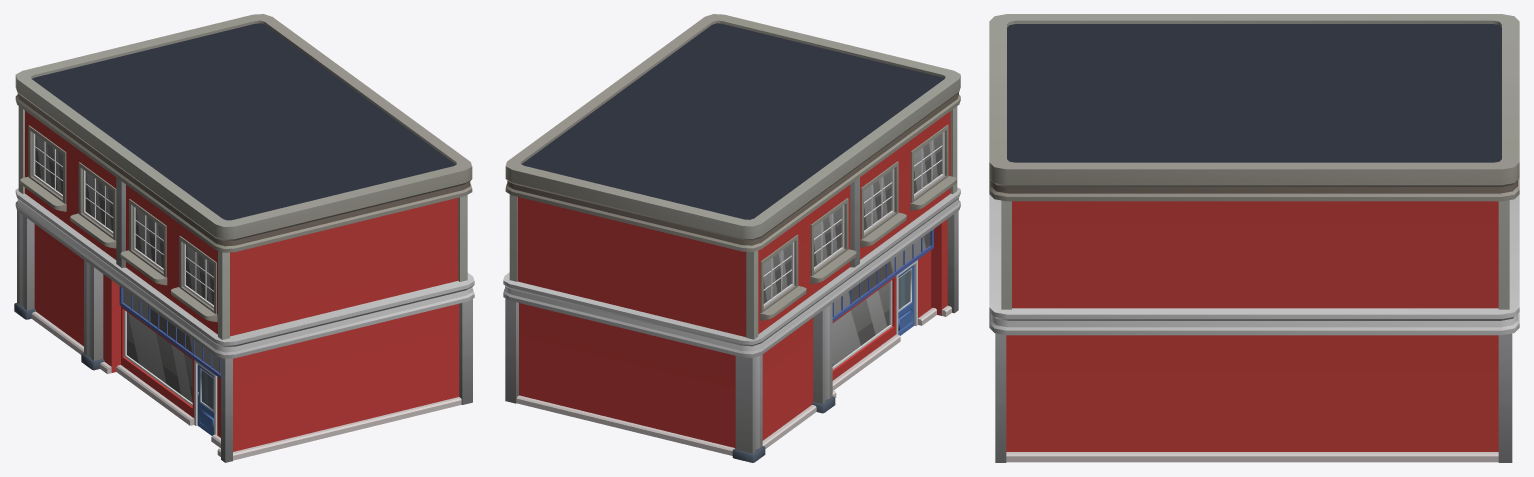
File: Building_11_2_E.fbx
3 renders of one model, left to right at view 1: azimuth 30°, elevation 25°; view 2: azimuth 150°, elevation 25°; view 3: azimuth 270°, elevation 25°, orthographic. The views are drawn at different scales.
Parts seen in each view (by area): view 1: Building_11_2_E; view 2: Building_11_2_E; view 3: Building_11_2_E.
Part boxes in pixels (left/top/right/bottom): Building_11_2_E: left=14, top=14, right=474, bottom=462; Building_11_2_E: left=503, top=14, right=960, bottom=462; Building_11_2_E: left=989, top=14, right=1519, bottom=462.
Size of the model in its own units: 827 by 714 by 1163.
